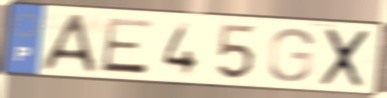4: (160, 22, 201, 77)
5: (216, 22, 258, 81)
A: (39, 13, 100, 74)
E: (99, 16, 156, 76)
G: (265, 26, 317, 84)
X: (317, 27, 373, 90)
